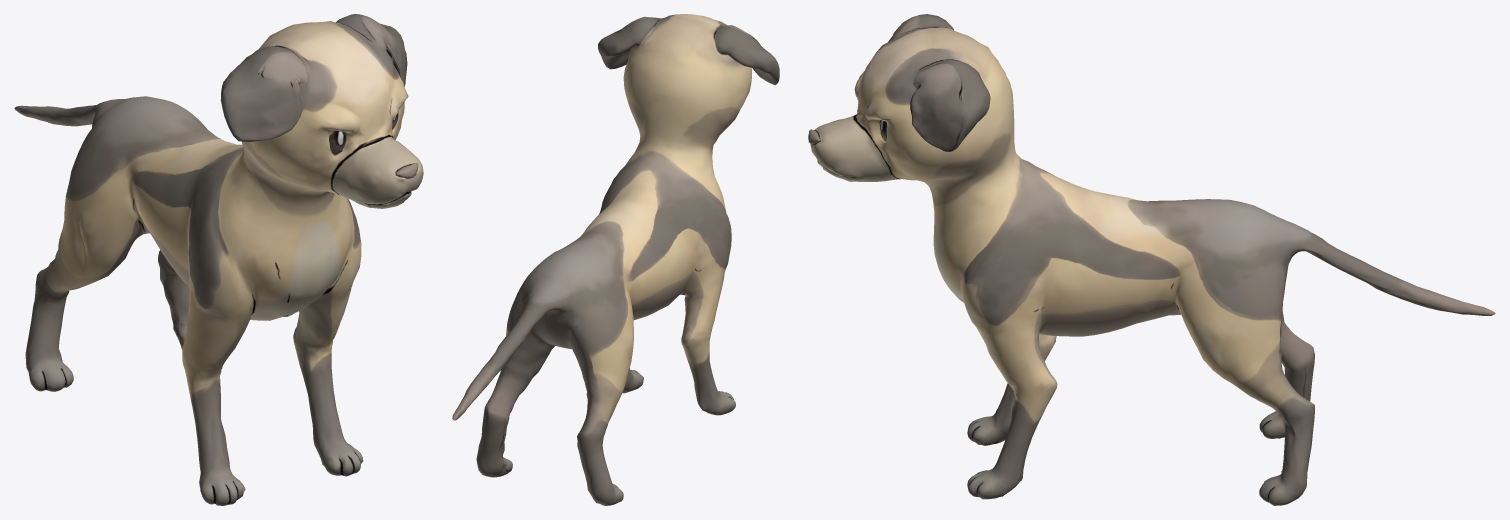
File: Pok59. Perstin.glb
The picture shows the model from 3 angles, left to right: view 1: azimuth 30°, elevation 25°; view 2: azimuth 150°, elevation 25°; view 3: azimuth 270°, elevation 25°; orthographic projection. The views are drawn at different scales.
Parts seen in each view (by area): view 1: geometry_0; view 2: geometry_0; view 3: geometry_0.
Part boxes in pixels (x1,y1,x2,y2): geometry_0: (14,14,423,505); geometry_0: (452,14,779,505); geometry_0: (808,14,1495,505).
Bounding box in the file's own units: 0.3047 × 0.6675 × 0.9536.
1 material, 1 textured.
